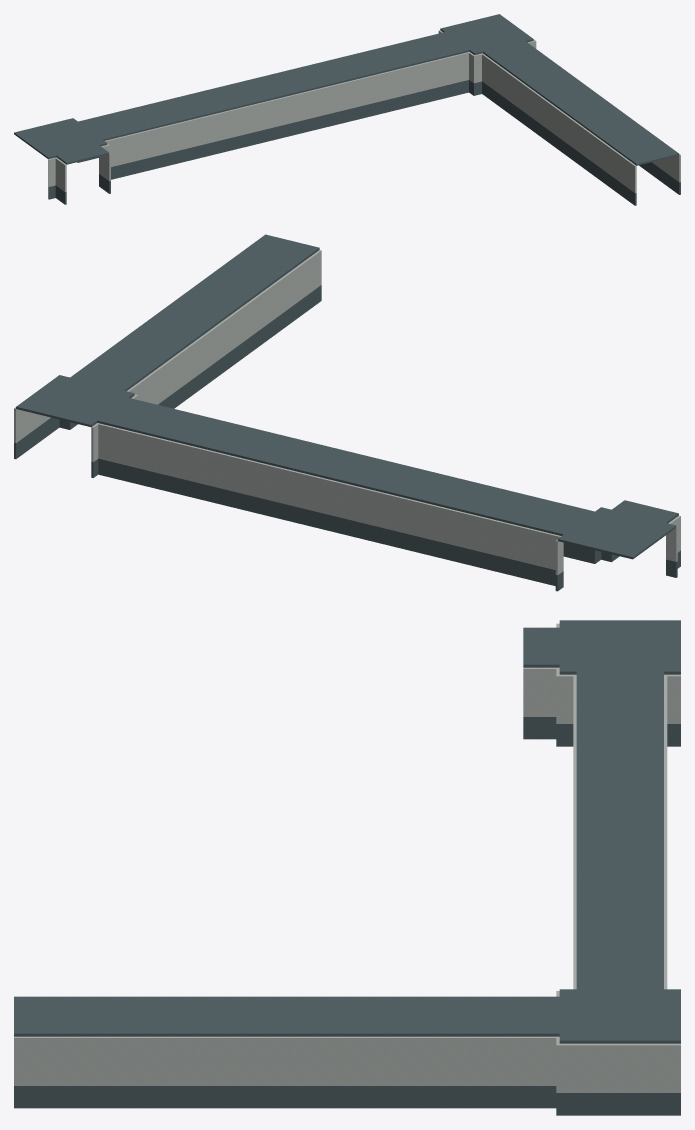
File: AST-STF-G3-038.glb
The picture shows the model from 3 angles, top to bottom: view 1: azimuth 30°, elevation 25°; view 2: azimuth 150°, elevation 25°; view 3: azimuth 270°, elevation 25°; orthographic projection. The views are drawn at different scales.
Parts seen in each view (by area): view 1: screen_wall_staff_white_paint_6_-63, overhead_staff_bluegrey_paint_6_-63, overhead_staff_bluegrey_paint_2_-63, screen_wall_staff_white_paint_4_-63, screen_wall_staff_white_paint_5_-63, screen_wall_staff_white_paint_3_-63, overhead_staff_bluegrey_paint_3_-63, overhead_staff_bluegrey_paint_4_-63, overhead_staff_bluegrey_paint_5_-63, overhead_staff_bluegrey_paint_7_-61, overhead_staff_bluegrey_paint_7_-62, overhead_staff_bluegrey_paint_7_-63 (+18 smaller); view 2: overhead_staff_bluegrey_paint_6_-63, overhead_staff_bluegrey_paint_2_-63, screen_wall_staff_white_paint_4_-63, screen_wall_staff_white_paint_3_-63, screen_wall_staff_white_paint_5_-63, overhead_staff_bluegrey_paint_5_-63, overhead_staff_bluegrey_paint_3_-63, overhead_staff_bluegrey_paint_4_-63, screen_wall_staff_white_paint_6_-63, overhead_staff_bluegrey_paint_7_-63, overhead_staff_bluegrey_paint_7_-62, overhead_staff_bluegrey_paint_7_-61 (+18 smaller); view 3: screen_wall_staff_white_paint_7_-62, screen_wall_staff_white_paint_7_-61, overhead_staff_bluegrey_paint_2_-63, overhead_staff_bluegrey_paint_6_-63, screen_wall_staff_white_paint_7_-63, overhead_staff_bluegrey_paint_3_-63, overhead_staff_bluegrey_paint_4_-63, overhead_staff_bluegrey_paint_5_-63, overhead_staff_bluegrey_paint_7_-62, overhead_staff_bluegrey_paint_7_-61, screen_wall_staff_white_paint_7_-60, overhead_staff_bluegrey_paint_7_-63 (+10 smaller).
Part boxes in pixels (x1,y1,x2,y2): screen_wall_staff_white_paint_6_-63: (393,30,492,97); overhead_staff_bluegrey_paint_6_-63: (368,24,501,70); overhead_staff_bluegrey_paint_2_-63: (14,118,109,164); screen_wall_staff_white_paint_4_-63: (203,93,298,144); screen_wall_staff_white_paint_5_-63: (298,70,393,121); screen_wall_staff_white_paint_3_-63: (109,117,204,166); overhead_staff_bluegrey_paint_3_-63: (84,97,203,139); overhead_staff_bluegrey_paint_4_-63: (179,74,297,116); overhead_staff_bluegrey_paint_5_-63: (274,51,392,93); overhead_staff_bluegrey_paint_7_-61: (557,88,644,136); overhead_staff_bluegrey_paint_7_-62: (503,48,589,96); overhead_staff_bluegrey_paint_7_-63: (458,14,535,56); overhead_staff_bluegrey_paint_6_-63: (68,378,225,446); overhead_staff_bluegrey_paint_2_-63: (556,500,678,559); screen_wall_staff_white_paint_4_-63: (314,476,435,540); screen_wall_staff_white_paint_3_-63: (434,505,555,569); screen_wall_staff_white_paint_5_-63: (194,446,314,510); overhead_staff_bluegrey_paint_5_-63: (195,421,346,475); overhead_staff_bluegrey_paint_3_-63: (436,480,586,534); overhead_staff_bluegrey_paint_4_-63: (315,451,466,505); screen_wall_staff_white_paint_6_-63: (91,383,194,481); overhead_staff_bluegrey_paint_7_-63: (16,368,124,421); overhead_staff_bluegrey_paint_7_-62: (83,317,194,377); overhead_staff_bluegrey_paint_7_-61: (153,266,263,327); screen_wall_staff_white_paint_7_-62: (329,1036,523,1085); screen_wall_staff_white_paint_7_-61: (135,1036,329,1085); overhead_staff_bluegrey_paint_2_-63: (523,620,680,676); overhead_staff_bluegrey_paint_6_-63: (523,922,680,1004); screen_wall_staff_white_paint_7_-63: (523,1036,680,1092); overhead_staff_bluegrey_paint_3_-63: (576,676,663,758); overhead_staff_bluegrey_paint_4_-63: (576,758,663,840); overhead_staff_bluegrey_paint_5_-63: (576,840,663,922); overhead_staff_bluegrey_paint_7_-62: (329,1004,523,1036); overhead_staff_bluegrey_paint_7_-61: (135,1004,329,1036); screen_wall_staff_white_paint_7_-60: (14,1036,135,1085); overhead_staff_bluegrey_paint_7_-63: (523,1004,680,1043).
Bounding box in the file's own units: 41.14 × 3.34 × 27.5.
4 materials, 4 textured.
